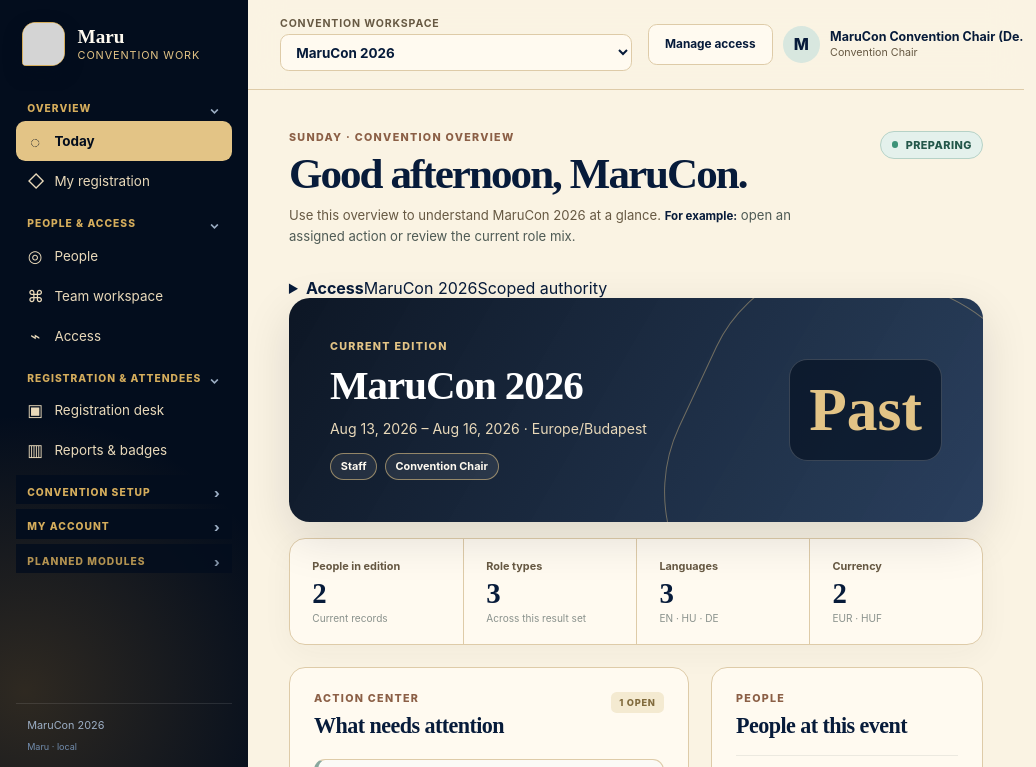
Test: Management Console › renders convention-specific questions and conditional fields
The width and height of the screenshot is (1036, 767).
Expected: the heading "MaruCon 2026" is shown, [330, 362, 583, 408]
Click the button "◇ My registration" at (124, 181), box [16, 161, 232, 201]
(page scrolled)
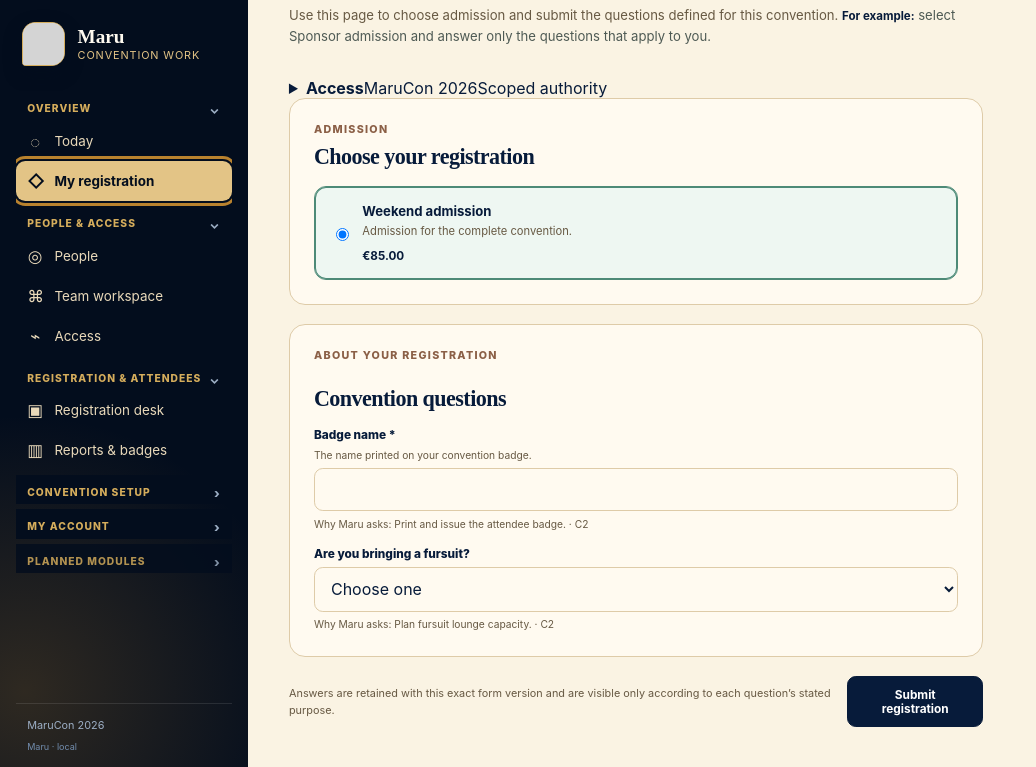
Expected: the field labelled "Fursuit species" is not shown
Expected: the field labelled "Badge name *" is shown, [314, 468, 958, 511]
Select "Yes" in the dropdown labelled "Are you bringing a fursuit?" at (636, 589), box [314, 567, 958, 612]
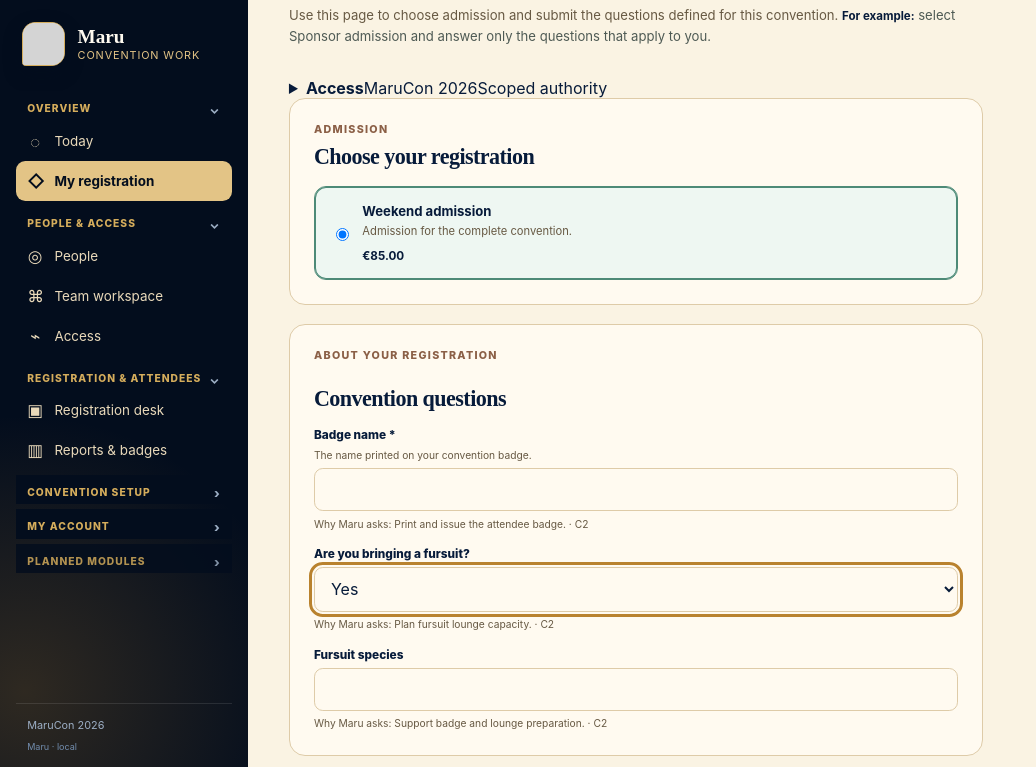
Expected: the field labelled "Fursuit species" is shown, [314, 668, 958, 711]
